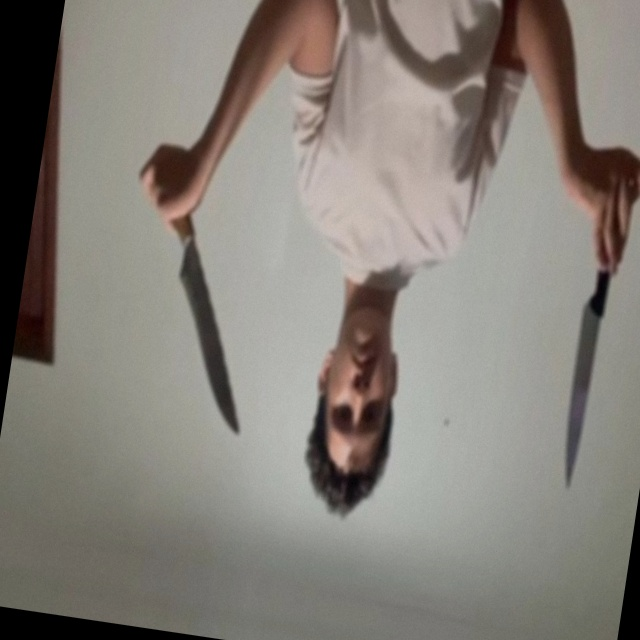Sharp-Object: (158, 245, 264, 434), (556, 307, 603, 490)
